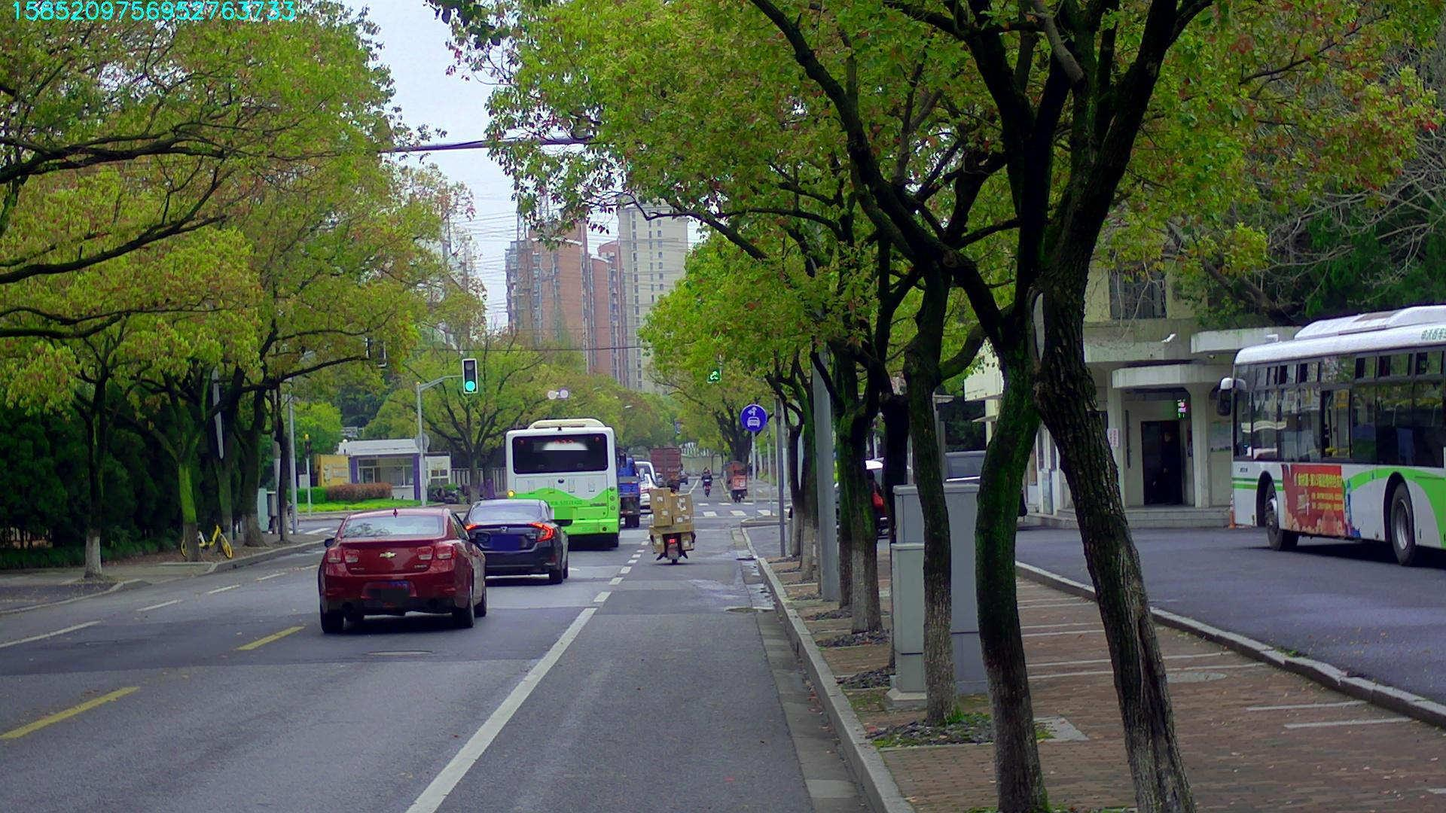green: (462, 359, 475, 391), (706, 367, 721, 382)
